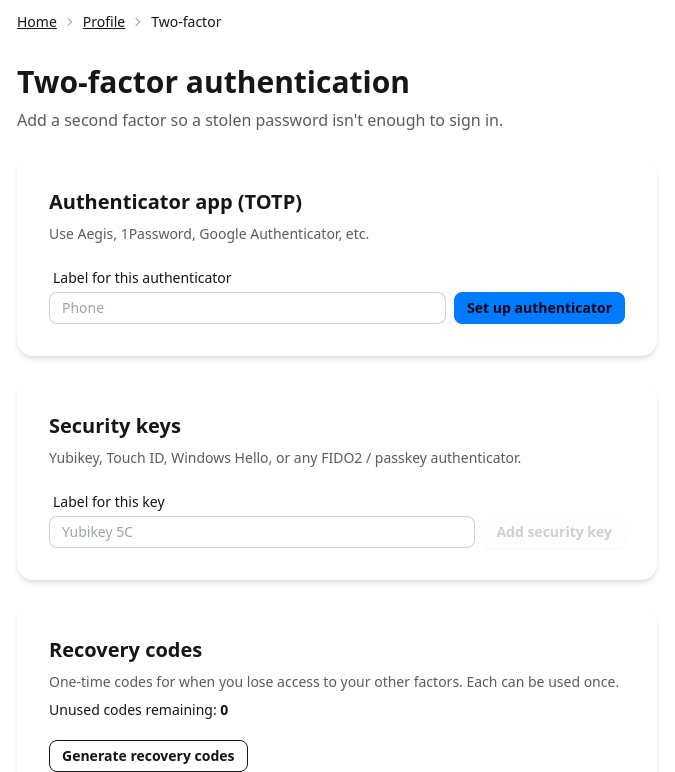
Test: setting up an authenticator › reports a QR rendering failure rather than showing a broken image
Click the button "Set up authenticator": (540, 308) top-left (454, 292), bottom-right (625, 324)
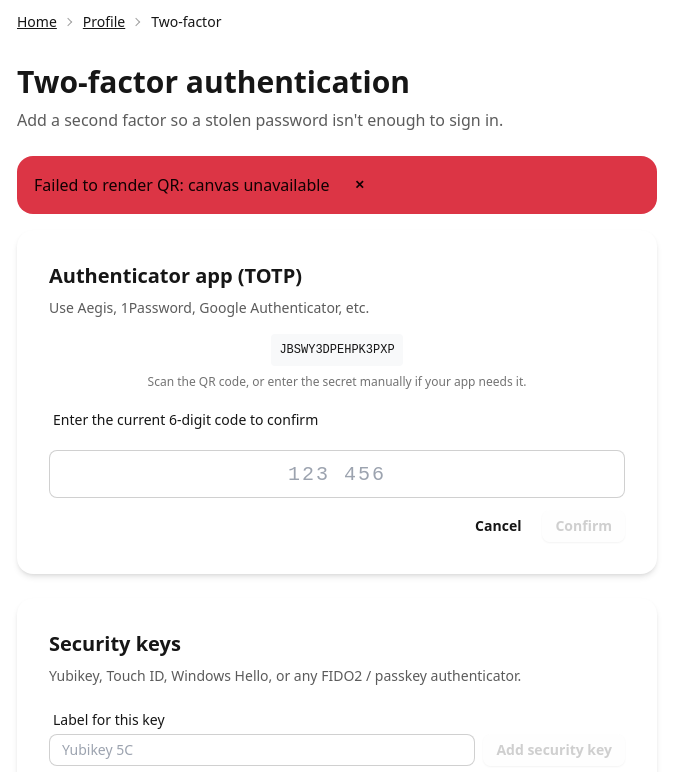
Now the element showing "Failed to render QR: canvas unavailable ✕" is shown, box top-left (17, 156), bottom-right (657, 214)
Now the text "JBSWY3DPEHPK3PXP" is shown, box top-left (271, 334), bottom-right (403, 366)
